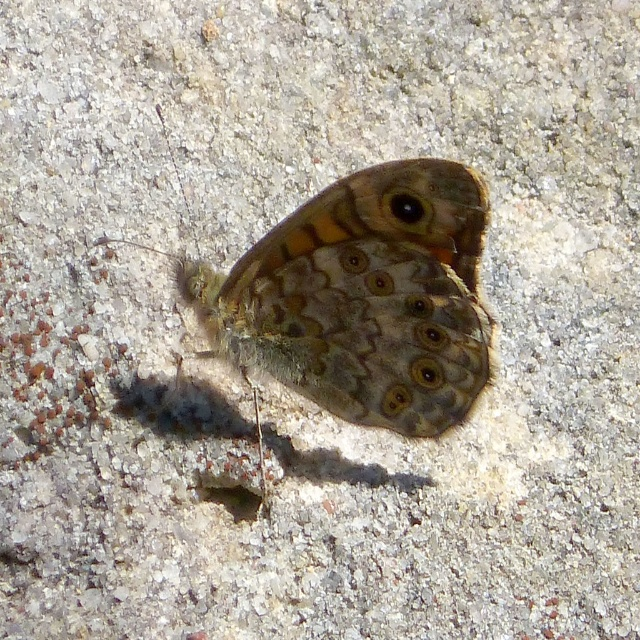Butterfly: (114, 151, 506, 473)
